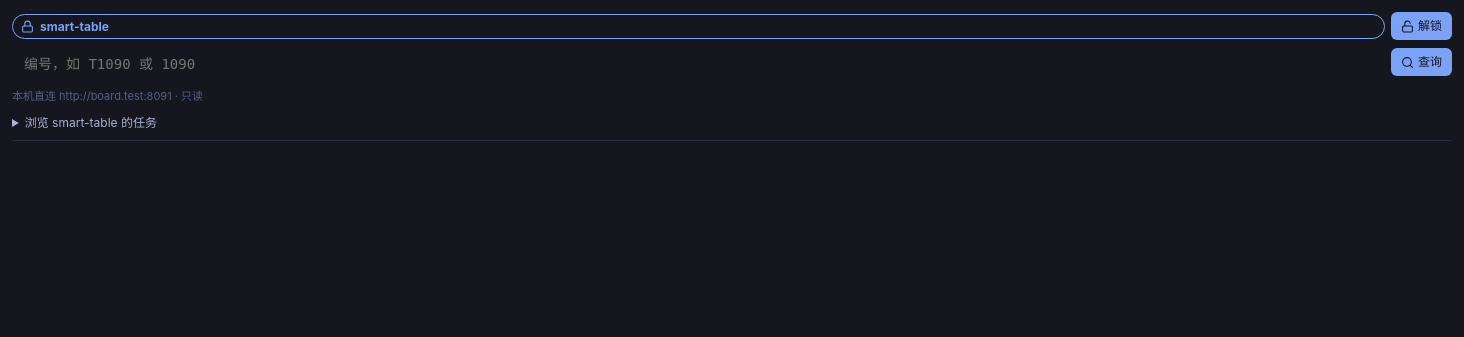
Test: lists candidates for an ambiguous number and opens the chosen one
In the field named "任务编号": [698, 64] box [12,48,1385,80], type "1090"
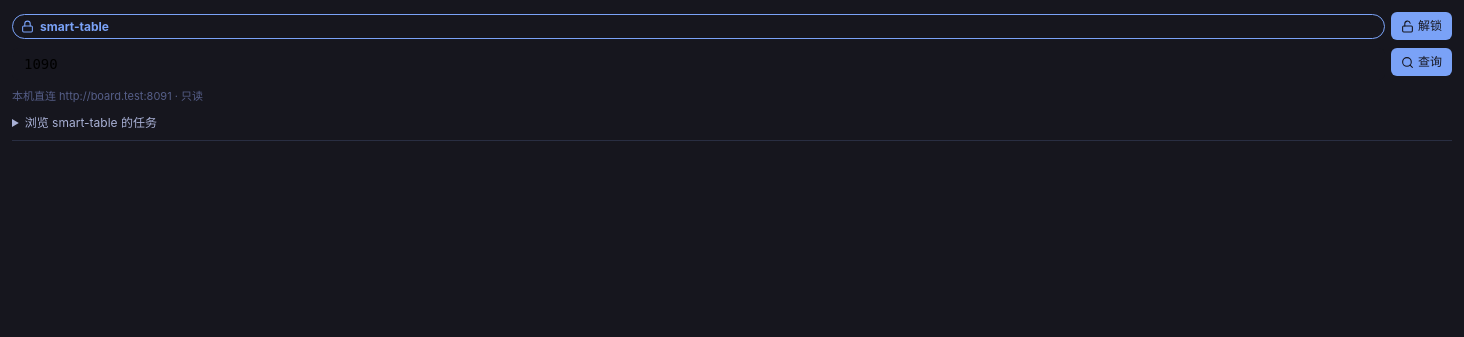
Click the button "查询": [1422, 62] box [1391,48,1452,76]
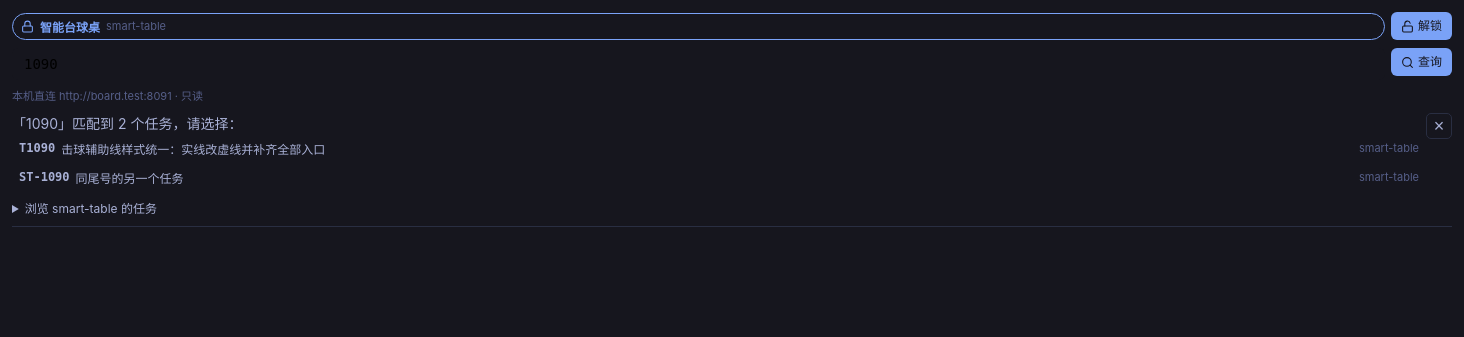
Now the text "「1090」匹配到 2 个任务，请选择：" is shown, box [12,114,242,132]
Click the text "ST-1090": [44, 177] box [19,170,70,184]
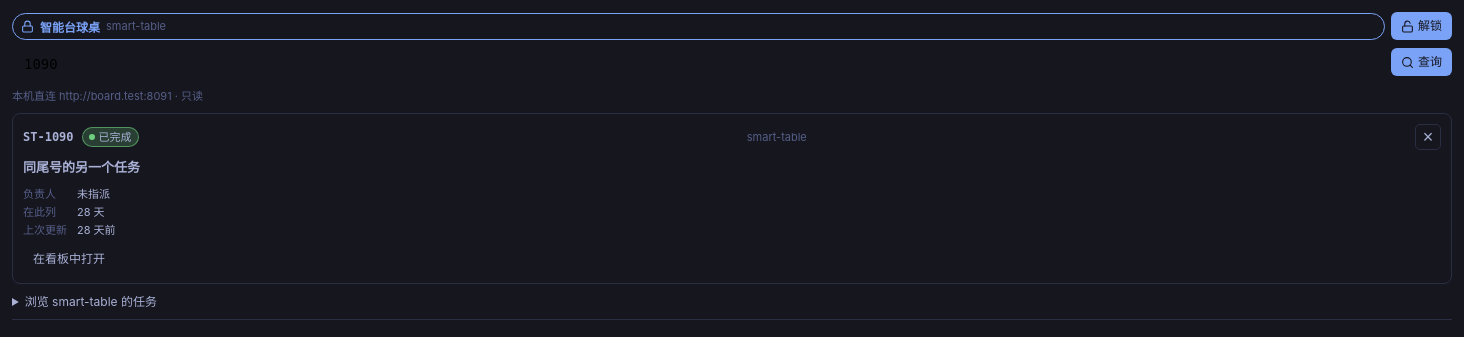
Now the element named "任务 ST-1090" is shown, box [12,112,1452,284]
